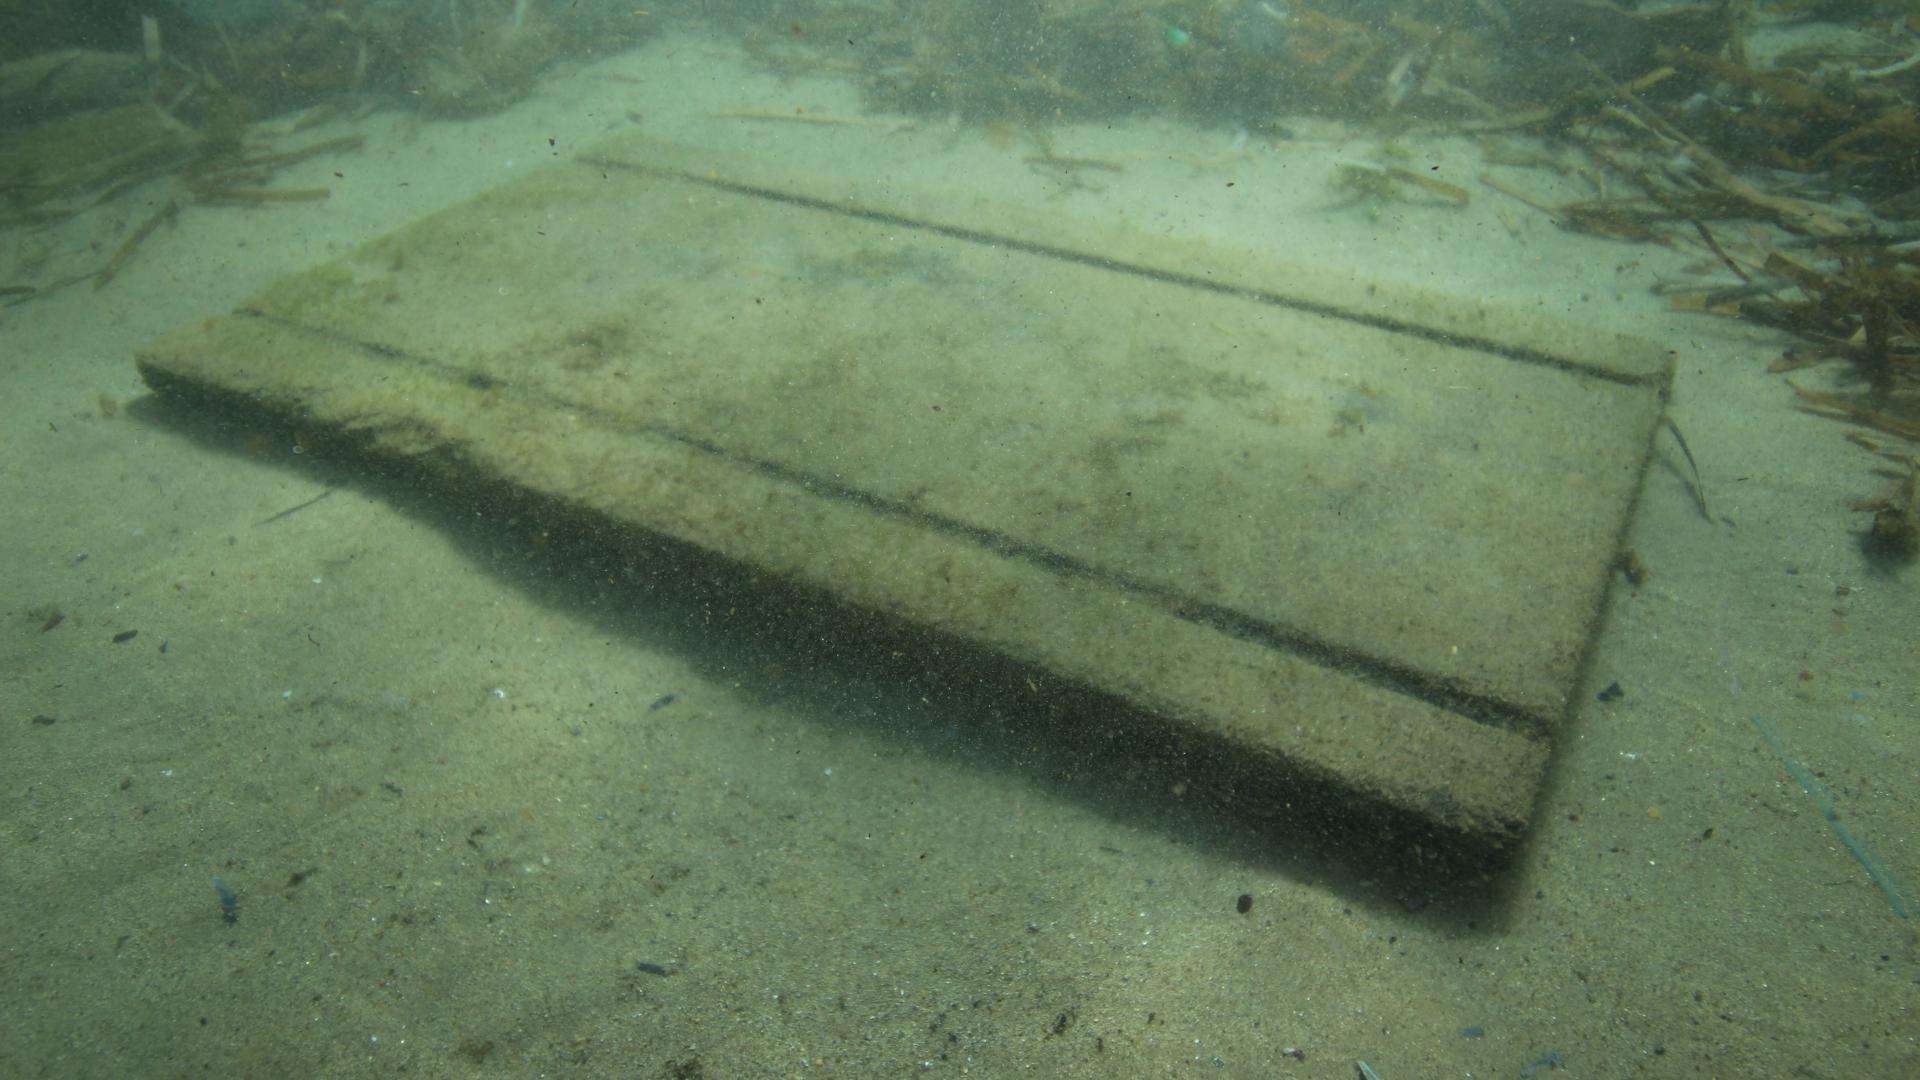wood: (131, 129, 1677, 829)
